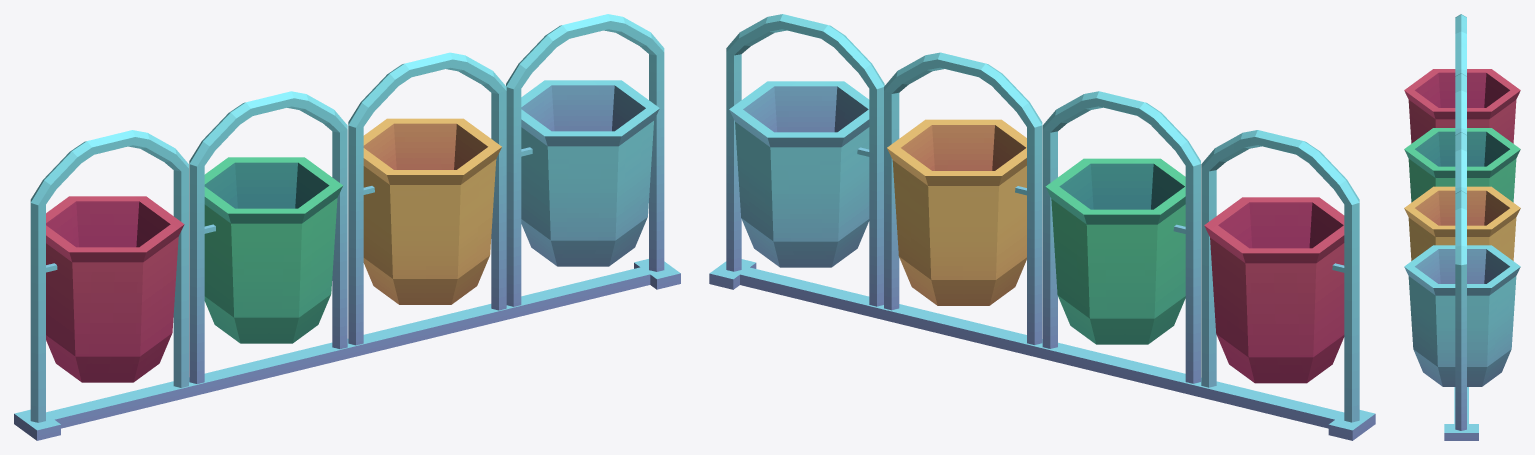
Rendered from trash_can001.obj.
The picture shows the model from 3 angles, left to right: view 1: azimuth 30°, elevation 25°; view 2: azimuth 150°, elevation 25°; view 3: azimuth 270°, elevation 25°; orthographic projection. The views are drawn at different scales.
Parts seen in each view (by area): view 1: trash_can.001; view 2: trash_can.001; view 3: trash_can.001.
Boxes of the visible parts, x1,y1,x2,y2 form: trash_can.001: (14,14,680,440); trash_can.001: (709,14,1375,440); trash_can.001: (1404,14,1520,440).
Bounding box in the file's own units: 6.68 × 2.74 × 1.38.
1 material, 1 textured.
